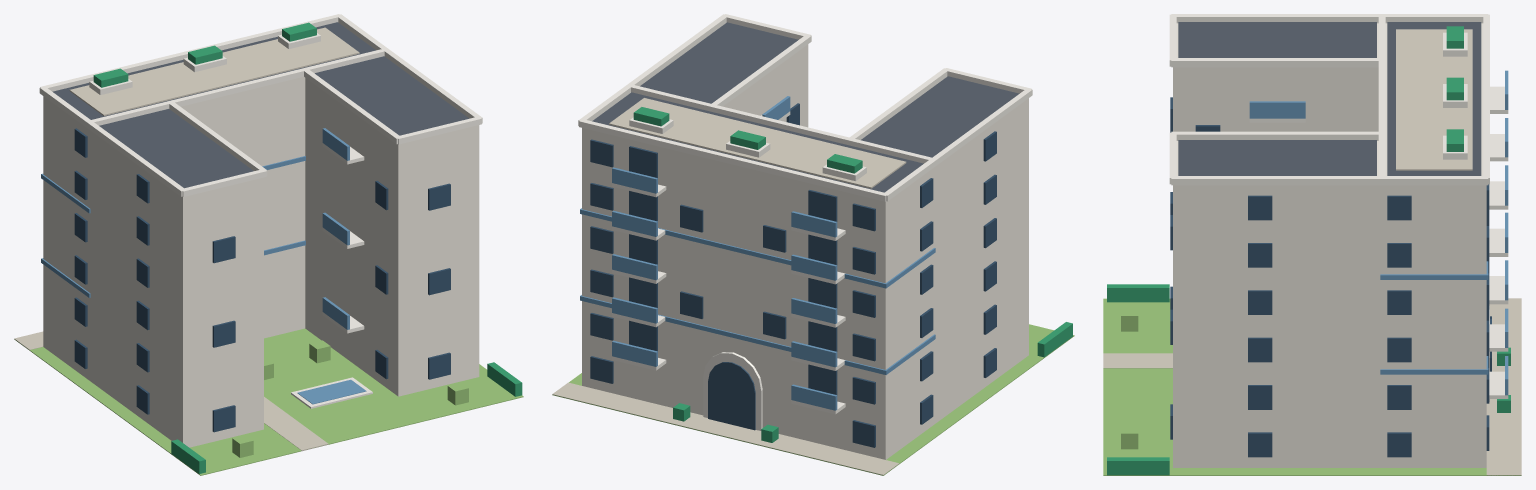
3 renders of one model, left to right at view 1: azimuth 30°, elevation 25°; view 2: azimuth 150°, elevation 25°; view 3: azimuth 270°, elevation 25°, orthographic. The views are drawn at different scales.
Visible parts, largest first — view 1: side_wing (×2), front_wing, lawn, roof (×3), parapet (×9), roof_terrace, window_glass (×5), courtyard_path, hedge (×2), string_course (×2), pool, pool_kerb; view 2: front_wing, side_wing (×2), window_glass (×26), roof (×3), parapet (×9), balcony_glass (×10), roof_terrace, forecourt, lawn, string_course (×2), entrance_arch, arch_surround (+1 smaller); view 3: side_wing (×2), front_wing, roof (×3), parapet (×8), lawn, roof_terrace, window_glass (×12), forecourt, balcony (×6), hedge (×2), string_course (×2), courtyard_path (+1 smaller).
Part boxes in pixels (<box>): side_wing (×2): <box>90,78,479,447</box>; front_wing: <box>43,77,305,380</box>; lawn: <box>14,328,523,475</box>; roof (×3): <box>52,22,468,188</box>; parapet (×9): <box>39,14,482,196</box>; roof_terrace: <box>69,27,359,115</box>; window_glass (×5): <box>212,183,450,432</box>; courtyard_path: <box>264,397,328,450</box>; hedge (×2): <box>171,362,522,473</box>; string_course (×2): <box>41,156,305,297</box>; pool: <box>297,379,366,404</box>; pool_kerb: <box>291,377,372,408</box>; front_wing: <box>582,128,933,459</box>; side_wing (×2): <box>723,44,1028,424</box>; window_glass (×26): <box>590,139,875,447</box>; roof (×3): <box>592,22,1019,192</box>; parapet (×9): <box>579,14,1032,201</box>; balcony_glass (×10): <box>612,167,837,410</box>; roof_terrace: <box>609,98,906,188</box>; forecourt: <box>552,382,899,475</box>; lawn: <box>552,324,1074,475</box>; string_course (×2): <box>580,208,935,374</box>; entrance_arch: <box>708,362,755,430</box>; arch_surround: <box>703,352,762,430</box>; side_wing (×2): <box>1173,23,1382,467</box>; front_wing: <box>1382,23,1486,467</box>; roof (×3): <box>1178,22,1481,175</box>; parapet (×8): <box>1171,14,1489,185</box>; lawn: <box>1103,298,1521,475</box>; roof_terrace: <box>1396,29,1472,170</box>; window_glass (×12): <box>1248,195,1411,457</box>; forecourt: <box>1486,298,1521,475</box>; balcony (×6): <box>1489,134,1508,398</box>; hedge (×2): <box>1107,284,1169,475</box>; string_course (×2): <box>1380,261,1488,374</box>; courtyard_path: <box>1103,353,1172,368</box>.
Size of the model in its own units: 24 by 19.17 by 24.
